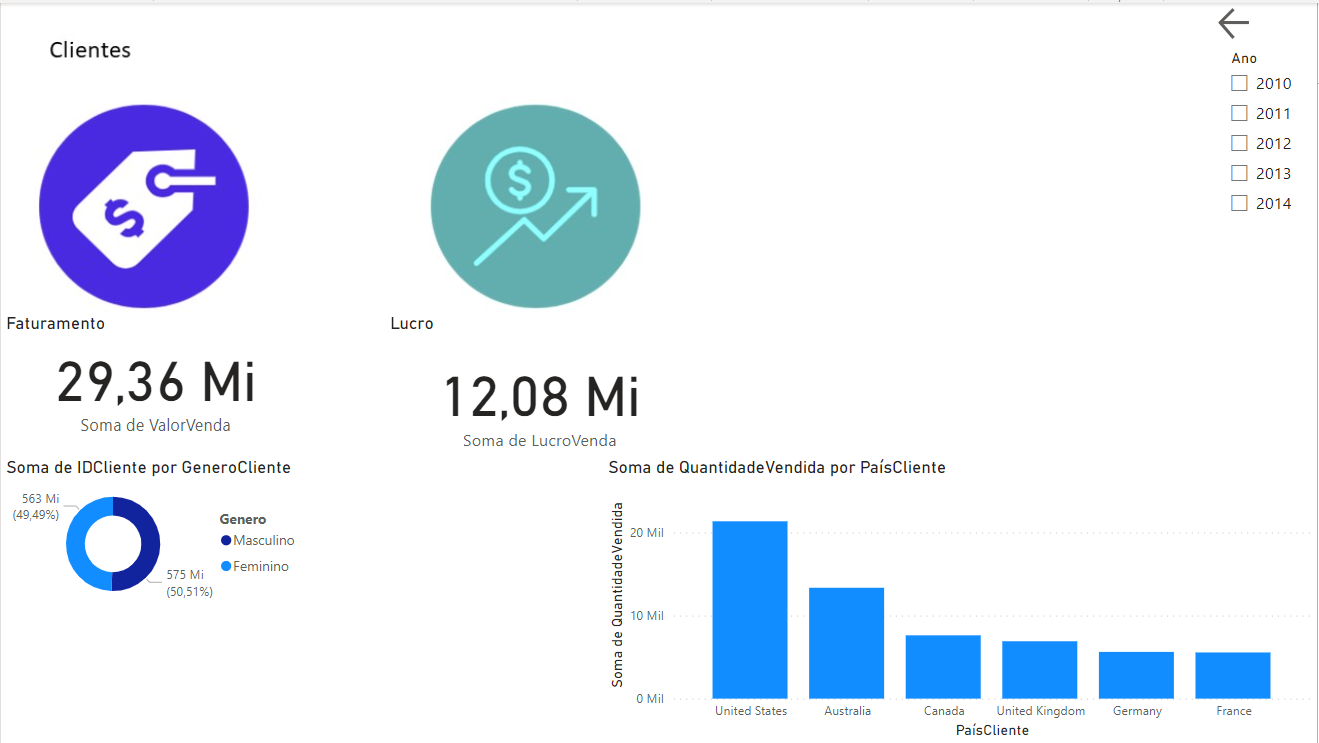

The dashboard page shown, as its layout file describes it:
{"tool":"powerbi","page":{"name":"Clientes","canvas":[1280,720],"ordinal":2},"visuals":[{"type":"actionButton","box":[1179.8,0,100.2,39.9],"z":0},{"type":"card","title":"Faturamento","fields":{"Values":["Sum(vw_AnaliseVendas - vw_AnaliseVendas.ValorVenda)"]},"box":[0,301.5,300.5,120.6],"z":1000},{"type":"card","title":"Lucro","fields":{"Values":["Sum(vw_AnaliseVendas - vw_AnaliseVendas.LucroVenda)"]},"box":[373.5,301.5,300.5,149.8],"z":2000},{"type":"donutChart","fields":{"Y":["Sum(vw_AnaliseVendas - vw_AnaliseVendas.IDCliente)"],"Category":["vw_AnaliseVendas - vw_AnaliseVendas.GeneroCliente"]},"box":[0,441.6,300.5,149.8],"z":3000},{"type":"clusteredColumnChart","fields":{"Y":["Sum(vw_AnaliseVendas - vw_AnaliseVendas.QuantidadeVendida)"],"Category":["vw_AnaliseVendas - vw_AnaliseVendas.PaísCliente"]},"box":[585.5,441.6,694.5,278.2],"z":4000},{"type":"slicer","fields":{"Values":["vw_AnaliseVendas - vw_AnaliseVendas.GeneroCliente"]},"box":[1183.7,39.9,96.3,175.1],"z":5000}]}

Visuals, with their boxes in screenshot pixels (x1, y1, x2, y2), scaled from the page's 1280x720 canvas onto the 1319x743 screenshot:
actionButton: (left=1216, top=0, right=1318, bottom=41)
"Faturamento" card: (left=0, top=311, right=310, bottom=436)
"Lucro" card: (left=385, top=311, right=695, bottom=466)
donutChart - Sum(vw_AnaliseVendas - vw_AnaliseVendas.IDCliente) x vw_AnaliseVendas - vw_AnaliseVendas.GeneroCliente: (left=0, top=456, right=310, bottom=610)
clusteredColumnChart - Sum(vw_AnaliseVendas - vw_AnaliseVendas.QuantidadeVendida) x vw_AnaliseVendas - vw_AnaliseVendas.PaísCliente: (left=603, top=456, right=1318, bottom=742)
slicer - vw_AnaliseVendas - vw_AnaliseVendas.GeneroCliente: (left=1220, top=41, right=1318, bottom=222)
